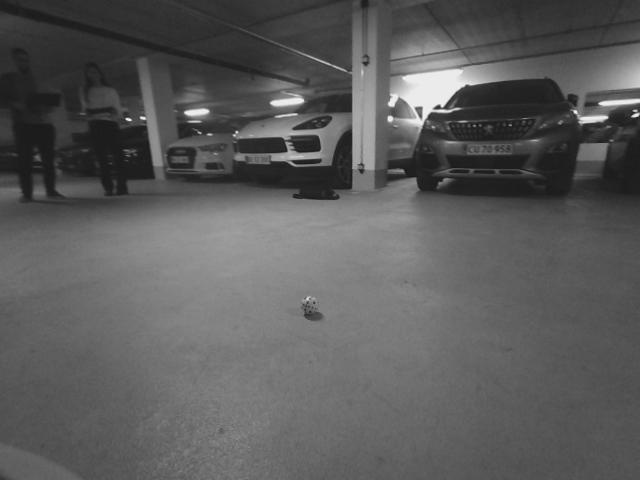dogtoy: (293, 288, 328, 320)
